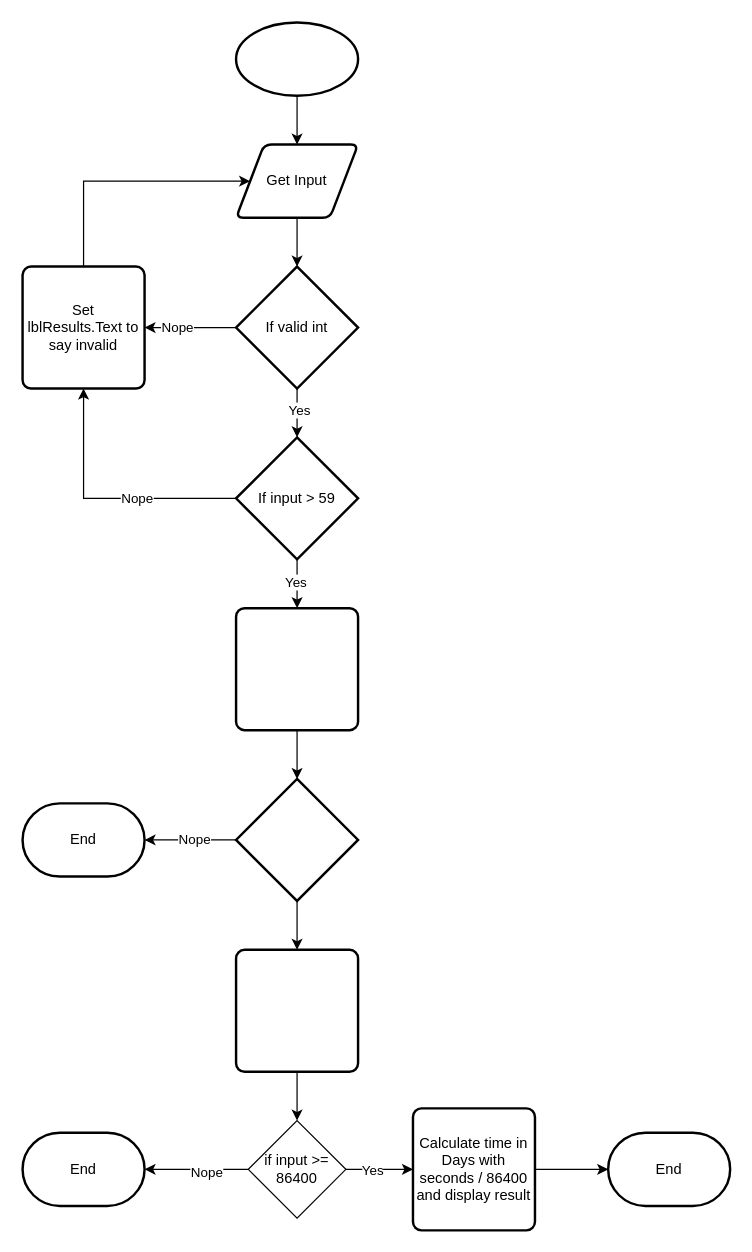
The diagram is 752 pixels wide and 1252 high, and some of its shapes have lost their labels. Here are the shapes that lost their labels. From the top down, the box of each, then its label:
(234, 21, 359, 96): Start
(234, 606, 359, 731): Calculate time in Minutes with seconds / 60 and display
(234, 777, 359, 902): if input >= 3600
(234, 948, 359, 1072): Calculate time in Hours with seconds / 3600 and display
